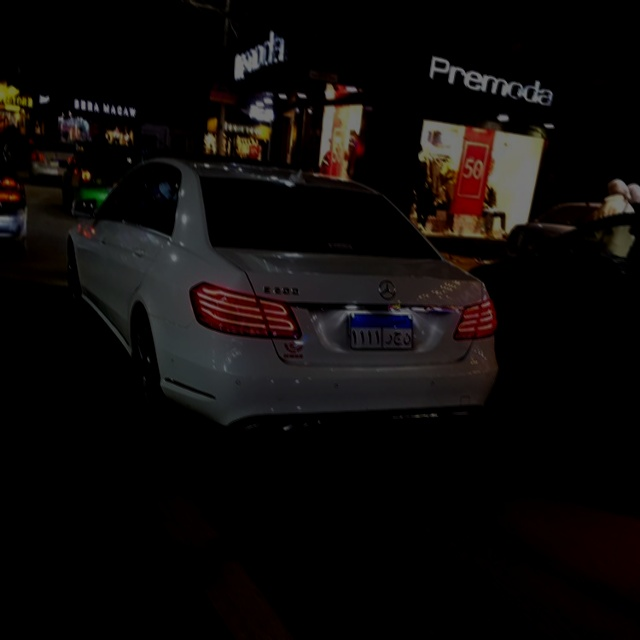License Plate: (349, 314, 413, 350)
